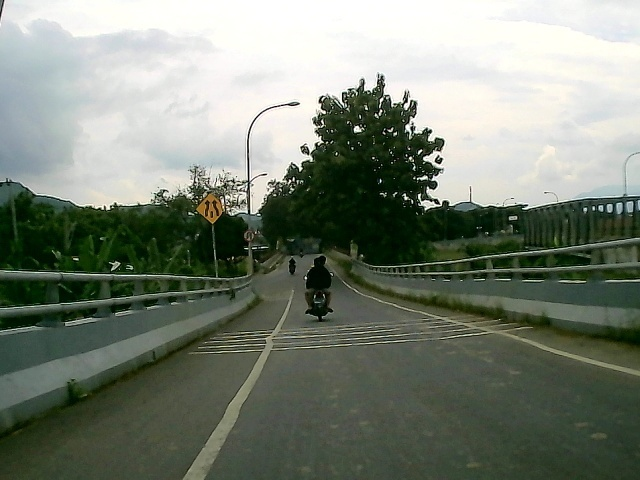Akhir bangunan pemisah satu arah: (192, 191, 228, 226)
Dilarang berbalik arah: (242, 229, 255, 244)
